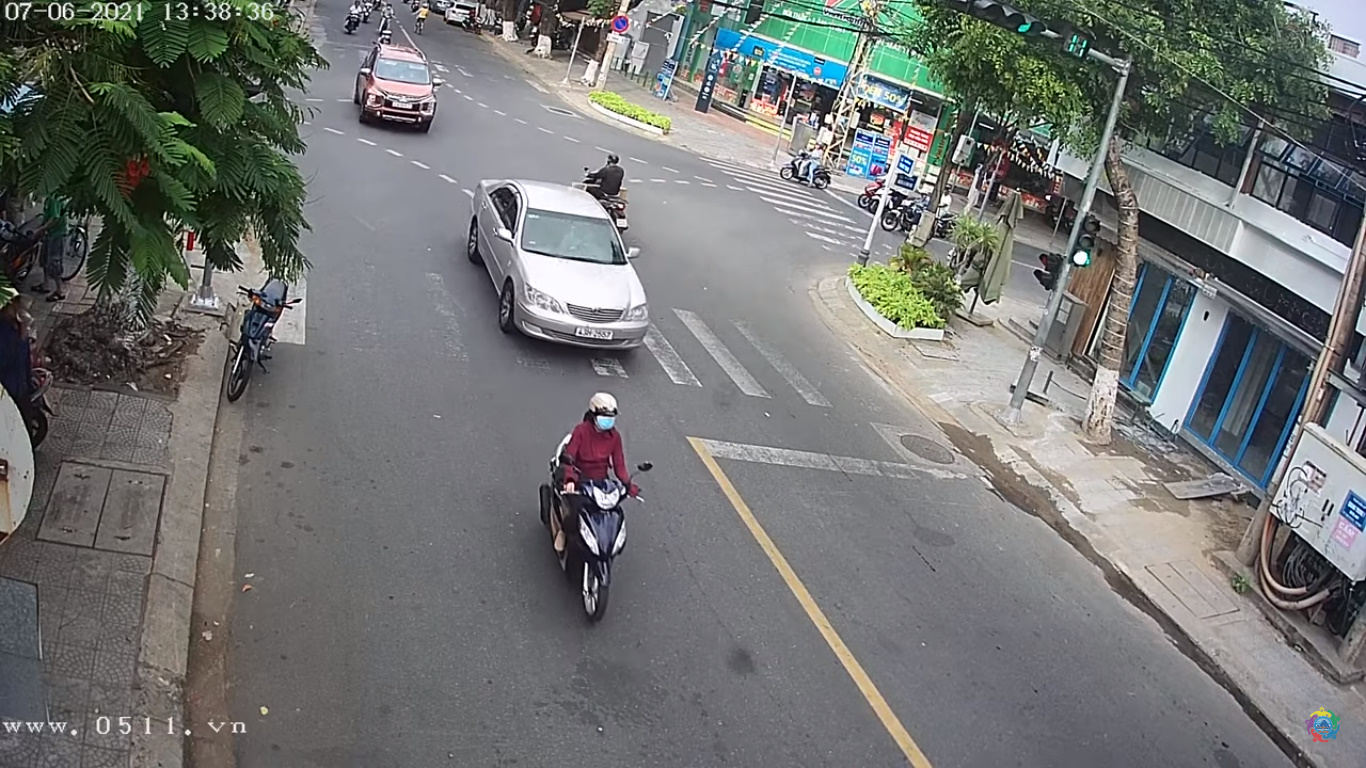car: (464, 174, 655, 364), (354, 39, 443, 134)
